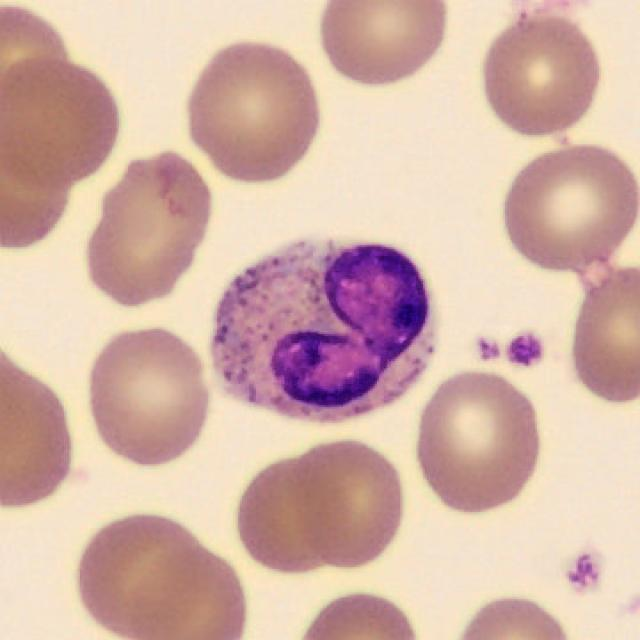Bastonete: (210, 238, 437, 423)
